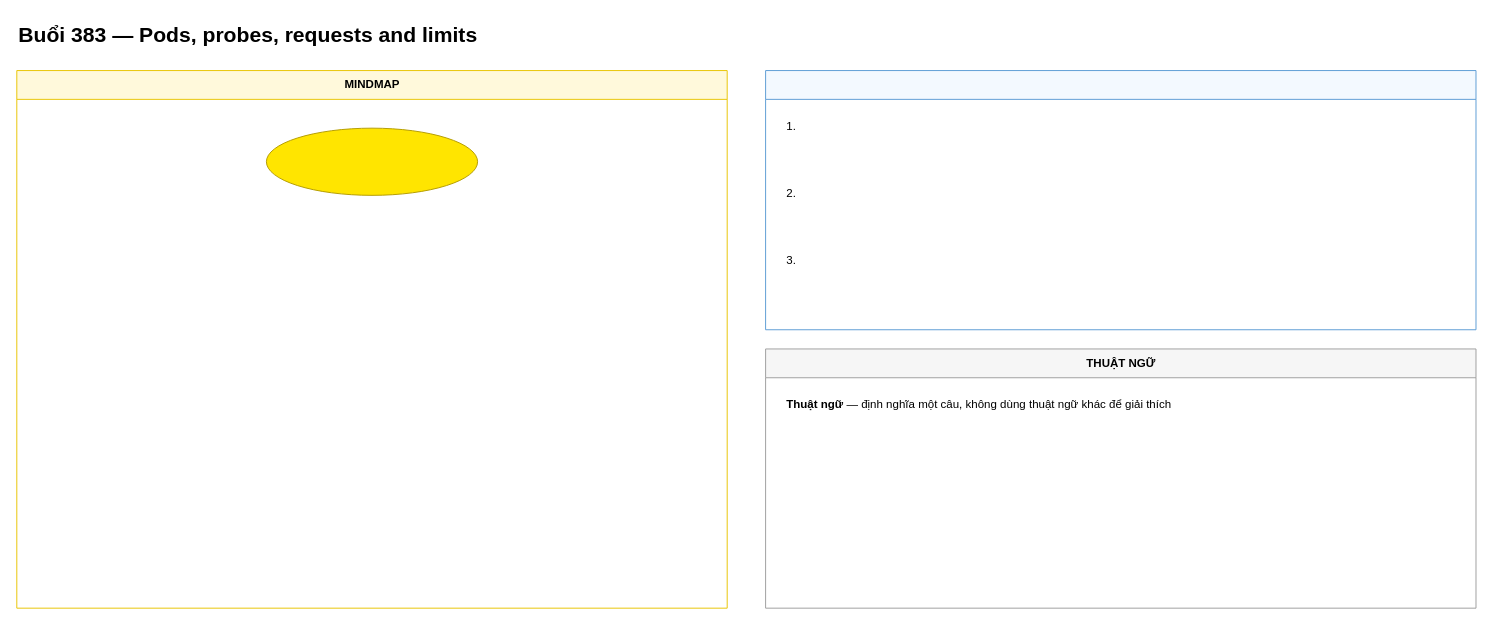
Image size: 1493x625. Some labels were removed from this diagram. Here are the shapes that lost their labels. From the top down, the box of each, then its label:
(265, 127, 478, 195): Pods, probes, requests and limits
(765, 70, 1476, 330): KEY TAKEAWAY — ba điều phải nhớ
